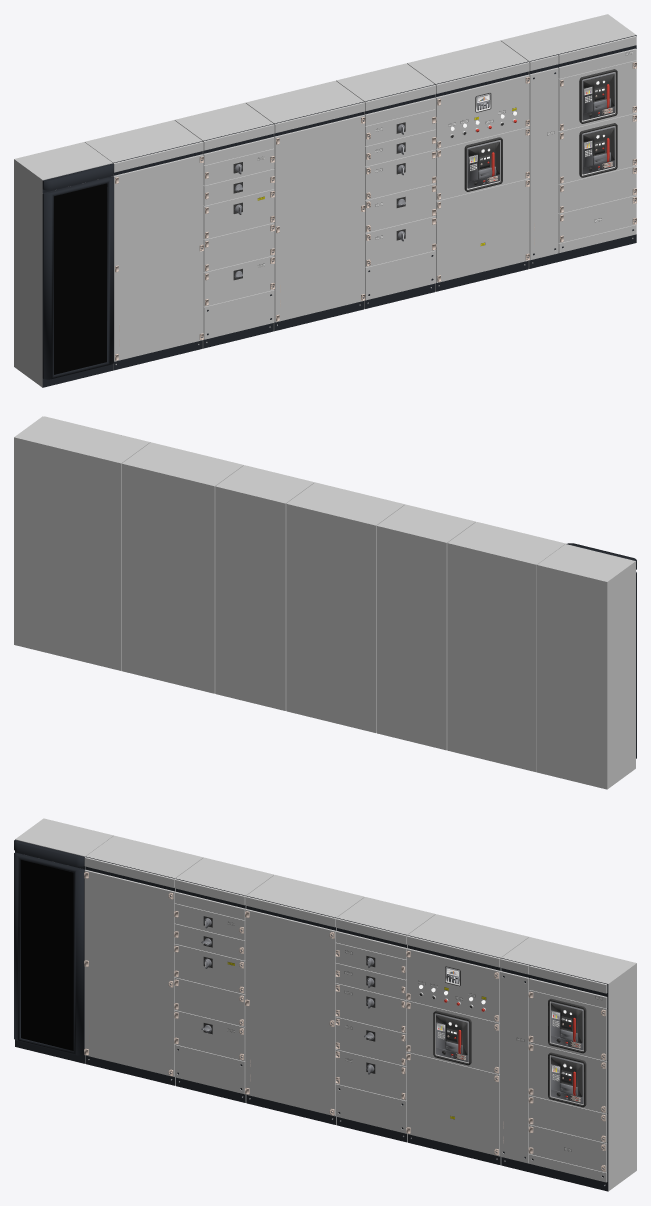
The model's file is electricity.glb.
3 views of the same model, one above another, from view 1: azimuth 30°, elevation 25°; view 2: azimuth 150°, elevation 25°; view 3: azimuth 330°, elevation 25° (orthographic).
Visible parts, largest first — view 1: Electric box set, Cube.015, Cube.013, Cylinder.019; view 2: Electric box set; view 3: Electric box set, Cube.015, Cube.013, Cylinder.019.
Boxes of the visible parts, x1,y1,x2,y2 form: Electric box set: (14,14,636,387); Cube.015: (464,69,617,191); Cube.013: (115,62,636,360); Cylinder.019: (233,122,405,280); Electric box set: (14,416,636,789); Electric box set: (14,818,636,1191); Cube.015: (433,998,586,1107); Cube.013: (84,872,605,1171); Cylinder.019: (201,916,375,1074).
Size of the model in its own units: 5.38 by 1.8 by 0.5058.
14 materials, 2 textured.
